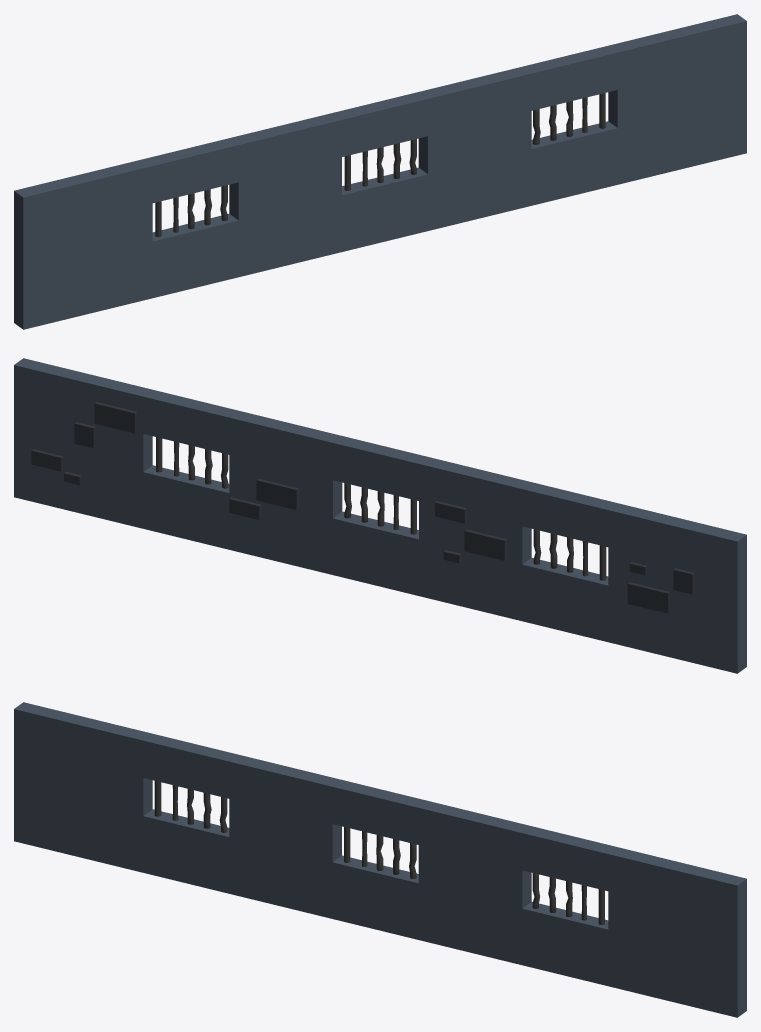
Rendered from Pared1LVL1.fbx.
3 views of the same model, one above another, from view 1: azimuth 30°, elevation 25°; view 2: azimuth 150°, elevation 25°; view 3: azimuth 330°, elevation 25° (orthographic).
Parts seen in each view (by area): view 1: Cube; view 2: Cube; view 3: Cube.
Boxes of the visible parts, x1,y1,x2,y2 form: Cube: [14, 14, 746, 329]; Cube: [14, 358, 746, 673]; Cube: [14, 702, 746, 1017].
Size of the model in its own units: 2206 by 385 by 61.13.
